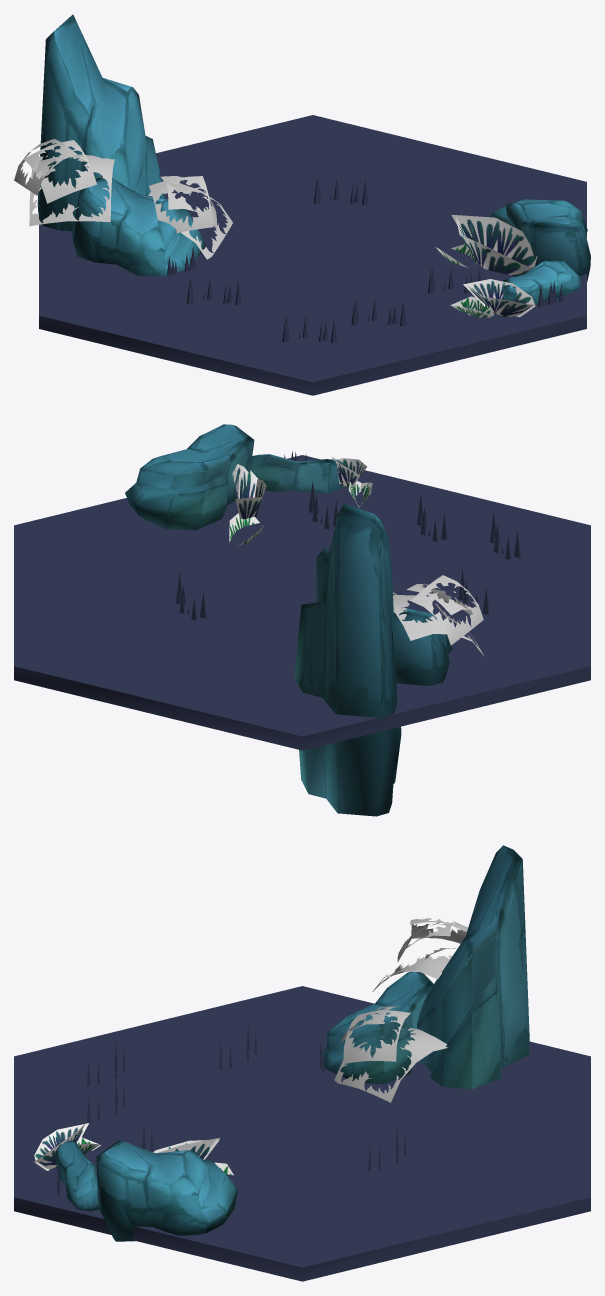
Rendered from aqua_land-cleared.fbx.
3 renders of one model, top to bottom at view 1: azimuth 30°, elevation 25°; view 2: azimuth 150°, elevation 25°; view 3: azimuth 270°, elevation 25°, orthographic. The views are drawn at different scales.
Parts seen in each view (by area): view 1: Cylinder, Cube_2, Cube_1, Cube_1_1, leaves_Blue, grass_6_3, Tree_Blue01_1, grass_6_1, Cube_1_2; view 2: Cylinder, Cube_2, Cube_1_1, leaves_Blue, Cube_1, Cube_1_2, grass_6_3, grass_6_1; view 3: Cylinder, Cube_2, Cube_1_1, Cube_1, Tree_Blue01_1, Cube_1_2, leaves_Blue, grass_6_1, grass_6_3.
Part boxes in pixels (box(x1,y1,x2,y2)): Cylinder: box(39, 115, 586, 395); Cube_2: box(37, 14, 164, 231); Cube_1: box(72, 176, 205, 275); Cube_1_1: box(490, 199, 590, 282); leaves_Blue: box(14, 139, 114, 226); grass_6_3: box(436, 214, 537, 276); Tree_Blue01_1: box(148, 176, 232, 259); grass_6_1: box(450, 279, 535, 317); Cube_1_2: box(503, 260, 580, 304); Cylinder: box(14, 455, 590, 750); Cube_2: box(294, 503, 401, 816); Cube_1_1: box(125, 424, 254, 530); leaves_Blue: box(393, 575, 484, 656); Cube_1: box(393, 607, 452, 685); Cube_1_2: box(250, 454, 343, 493); grass_6_3: box(229, 464, 266, 545); grass_6_1: box(332, 457, 372, 507); Cylinder: box(14, 986, 590, 1281); Cube_2: box(417, 845, 529, 1089); Cube_1_1: box(96, 1140, 237, 1241); Cube_1: box(322, 972, 433, 1083); Tree_Blue01_1: box(334, 1006, 448, 1102); Cube_1_2: box(55, 1140, 98, 1211); leaves_Blue: box(372, 918, 467, 991); grass_6_1: box(33, 1123, 100, 1170); grass_6_3: box(153, 1138, 233, 1175).
Size of the model in its own units: 4522 by 2301 by 3916.
